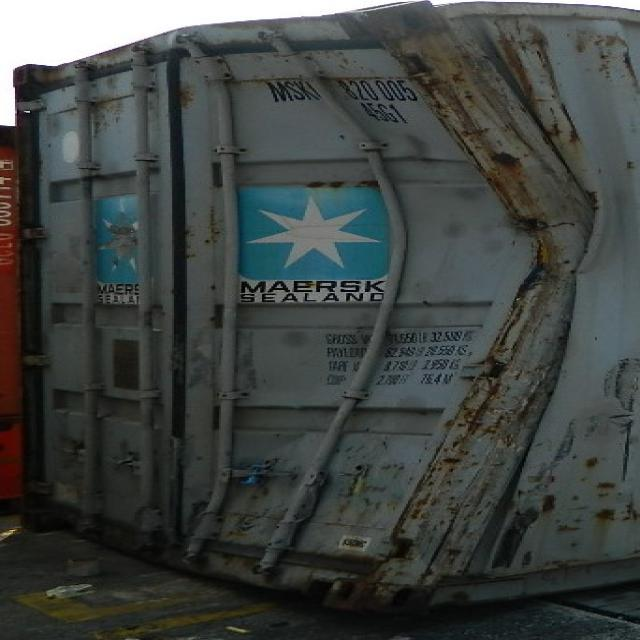dent: (351, 1, 590, 626), (252, 27, 410, 588), (271, 77, 498, 327), (175, 437, 242, 571), (415, 1, 639, 36)
